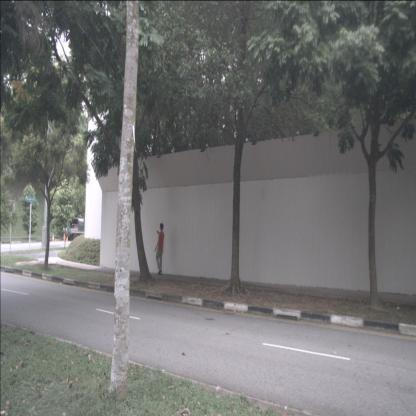human-pedestrian-adult: (154, 221, 165, 276)
movable_object-trafficcone: (52, 230, 56, 244), (63, 234, 68, 244)
vehicle-truck: (66, 218, 96, 241)
